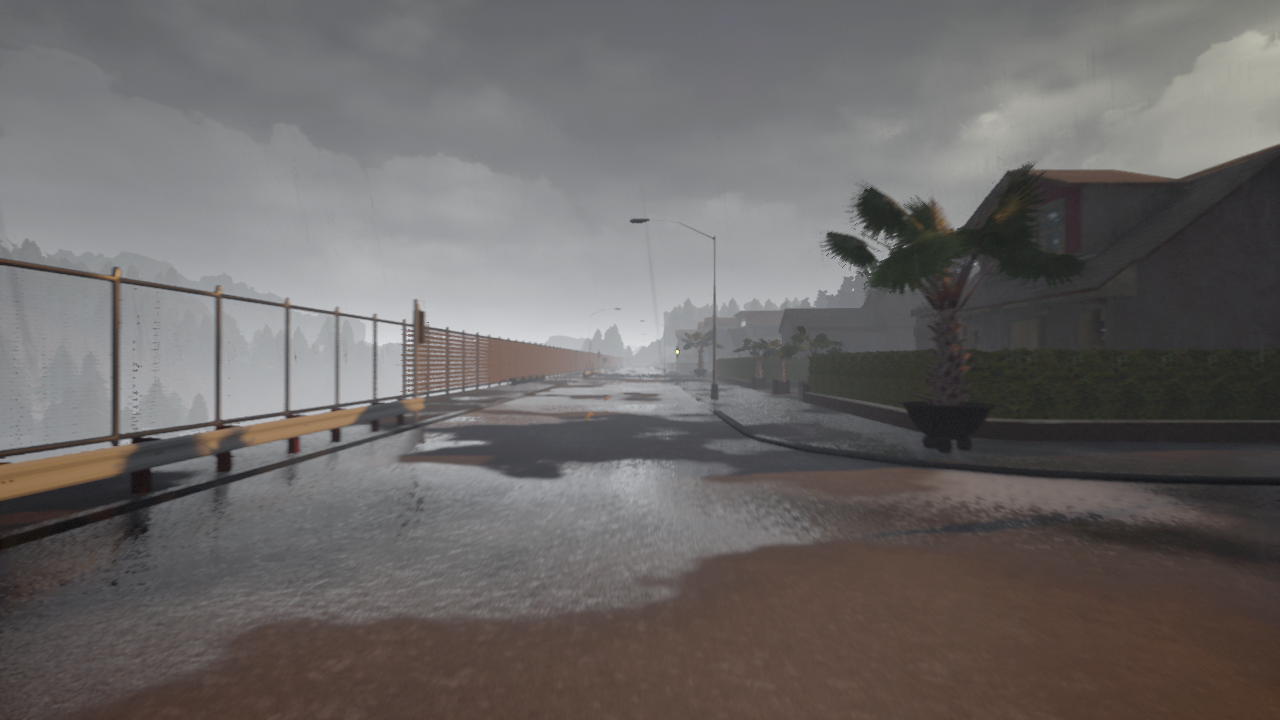yellow: (675, 346, 680, 358)
